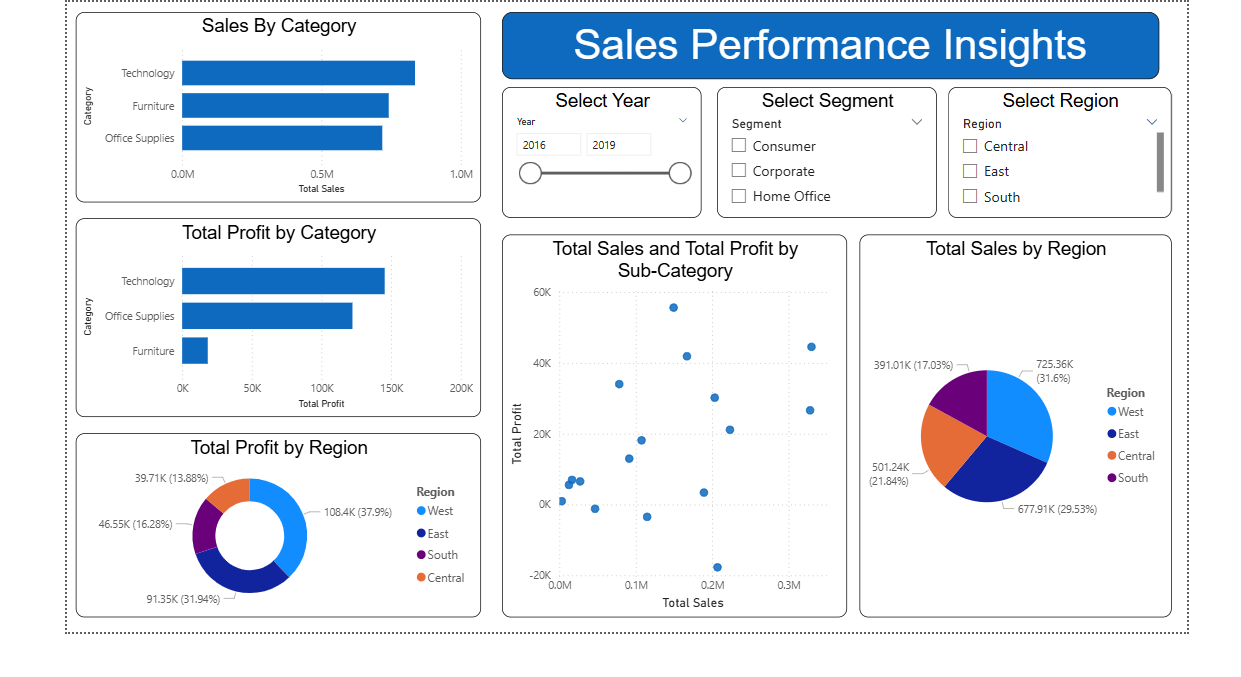

The page's visual inventory and layout, read from the dashboard file:
{"tool":"powerbi","page":{"name":"Page 2","canvas":[1280,720],"ordinal":1},"visuals":[{"type":"textbox","box":[10,0,280,280],"z":0},{"type":"textbox","title":"Sales Data Profile & Insights","box":[497,10.8,750.9,77],"z":1000},{"type":"barChart","title":"Sales By Category","fields":{"Category":["Sales.Category"],"Y":["All Measures.Total Sales"]},"box":[9.5,10.8,463.2,217.4],"z":2000},{"type":"barChart","fields":{"Category":["Sales.Category"],"Y":["All Measures.Total Profit"]},"box":[9.5,247.1,463.2,226.9],"z":3000},{"type":"scatterChart","fields":{"X":["All Measures.Total Sales"],"Y":["All Measures.Total Profit"],"Category":["Sales.Sub-Category"]},"box":[497,266,394.3,437.6],"z":4000},{"type":"pieChart","fields":{"Category":["Sales.Region"],"Y":["All Measures.Total Sales"]},"box":[906.2,266,356.5,437.6],"z":5000},{"type":"donutChart","fields":{"Category":["Sales.Region"],"Y":["All Measures.Total Profit"]},"box":[9.5,492.9,463.2,210.7],"z":6000},{"type":"slicer","title":"Select Year","fields":{"Values":["Sales.Order Date.Variation.Date Hierarchy.Year"]},"box":[497,97.2,228.2,149.9],"z":7000},{"type":"slicer","title":"Select Segment","fields":{"Values":["Sales.Segment"]},"box":[742.8,97.2,251.2,149.9],"z":8000},{"type":"slicer","title":"Select Region","fields":{"Values":["Sales.Region"]},"box":[1007.5,97.2,255.2,149.9],"z":9000}]}

Visuals, with their boxes in screenshot pixels (x1, y1, x2, y2):
textbox: 64, 0, 314, 250
"Sales Data Profile & Insights" textbox: 498, 10, 1169, 78
"Sales By Category" barChart: 63, 10, 477, 204
barChart - Sales.Category x All Measures.Total Profit: 63, 220, 477, 423
scatterChart - All Measures.Total Sales x All Measures.Total Profit: 498, 237, 850, 628
pieChart - Sales.Region x All Measures.Total Sales: 864, 237, 1182, 628
donutChart - Sales.Region x All Measures.Total Profit: 63, 440, 477, 628
"Select Year" slicer: 498, 87, 702, 220
"Select Segment" slicer: 718, 87, 942, 220
"Select Region" slicer: 954, 87, 1182, 220
